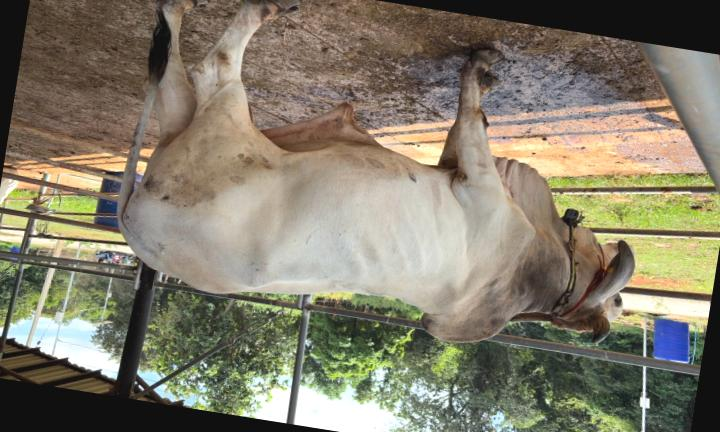Brahman: (117, 0, 634, 342)
